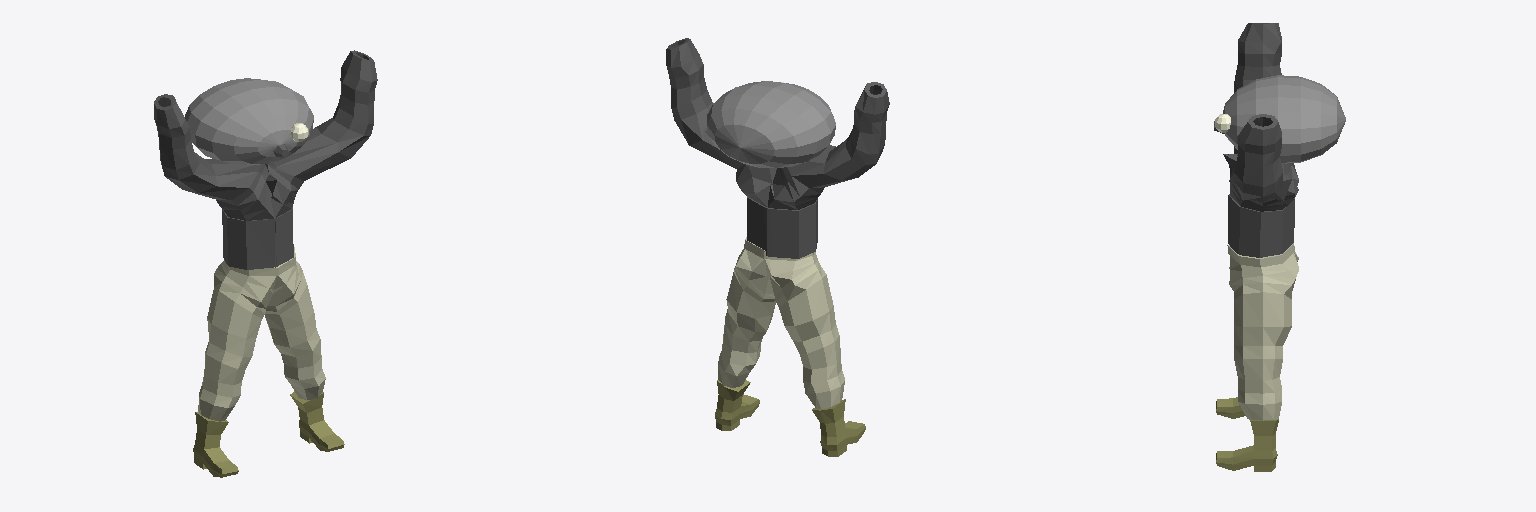
The model's file is guy.obj.
3 views of the same model, side by side, from view 1: azimuth 30°, elevation 25°; view 2: azimuth 150°, elevation 25°; view 3: azimuth 270°, elevation 25° (orthographic).
Parts seen in each view (by area): view 1: Cylinder02, Cylinder01, Sphere01, Box01, Box02; view 2: Cylinder02, Cylinder01, Sphere01, Box01, Box02; view 3: Cylinder02, Cylinder01, Sphere01, Box02.
Boxes of the visible parts, x1,y1,x2,y2 form: Cylinder02: [154, 50, 377, 269]; Cylinder01: [198, 247, 325, 421]; Sphere01: [185, 78, 313, 164]; Box01: [193, 411, 238, 477]; Box02: [290, 391, 344, 451]; Cylinder02: [666, 38, 889, 258]; Cylinder01: [718, 237, 844, 408]; Sphere01: [707, 81, 835, 167]; Box01: [812, 399, 865, 456]; Box02: [715, 380, 759, 430]; Cylinder02: [1223, 23, 1298, 257]; Cylinder01: [1227, 243, 1298, 420]; Sphere01: [1223, 75, 1345, 163]; Box02: [1216, 419, 1278, 471].
Bounding box in the file's own units: 250 × 416 × 133.